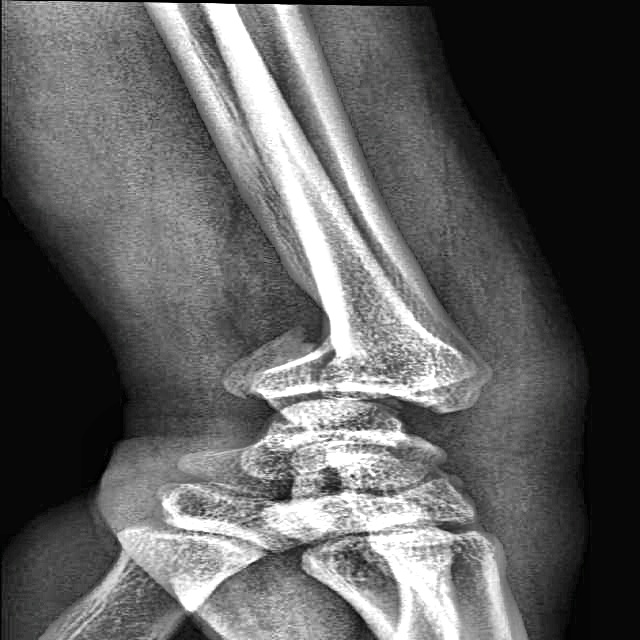Linear: (266, 331, 379, 401)
